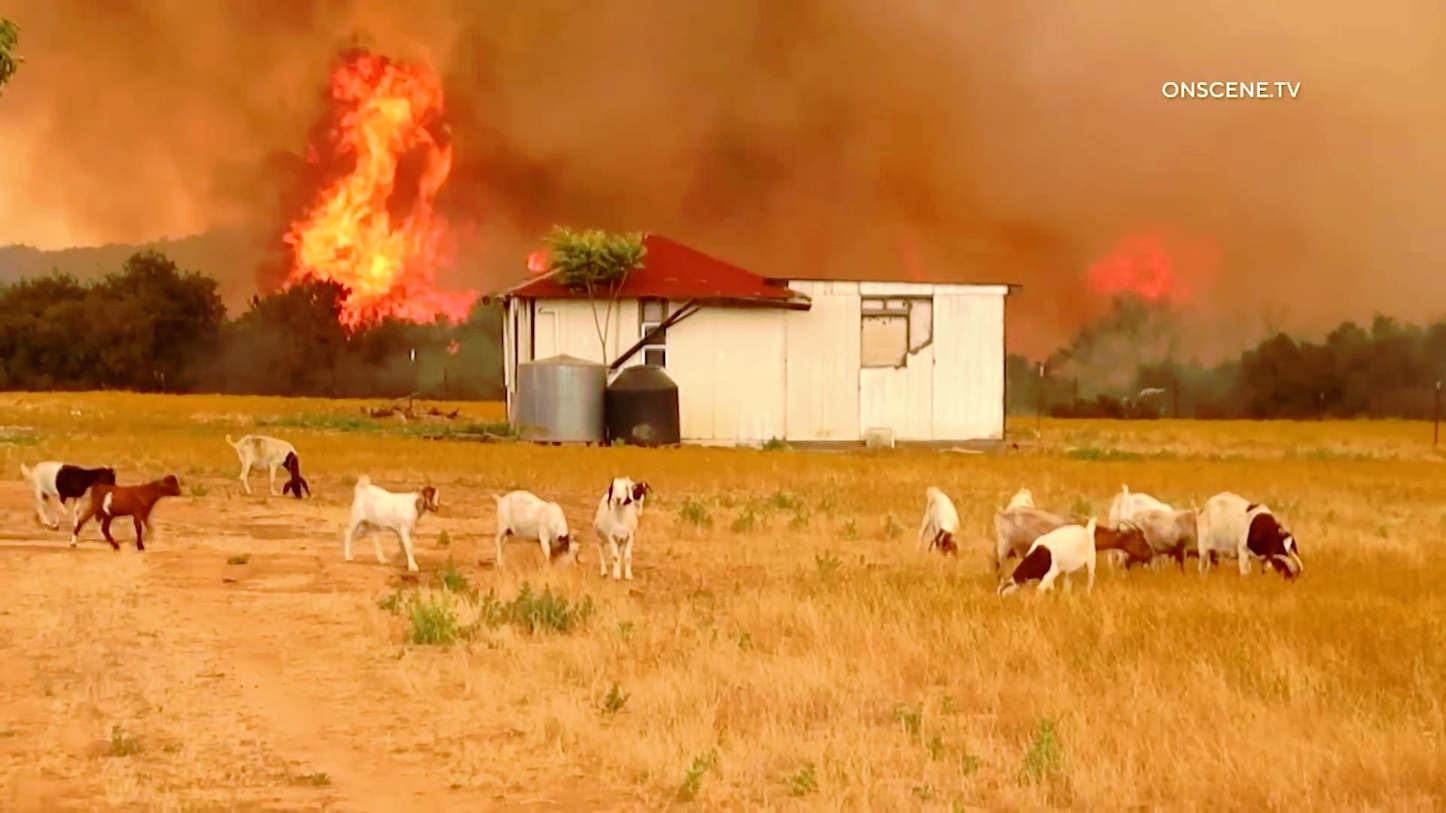fire: (277, 38, 480, 362)
